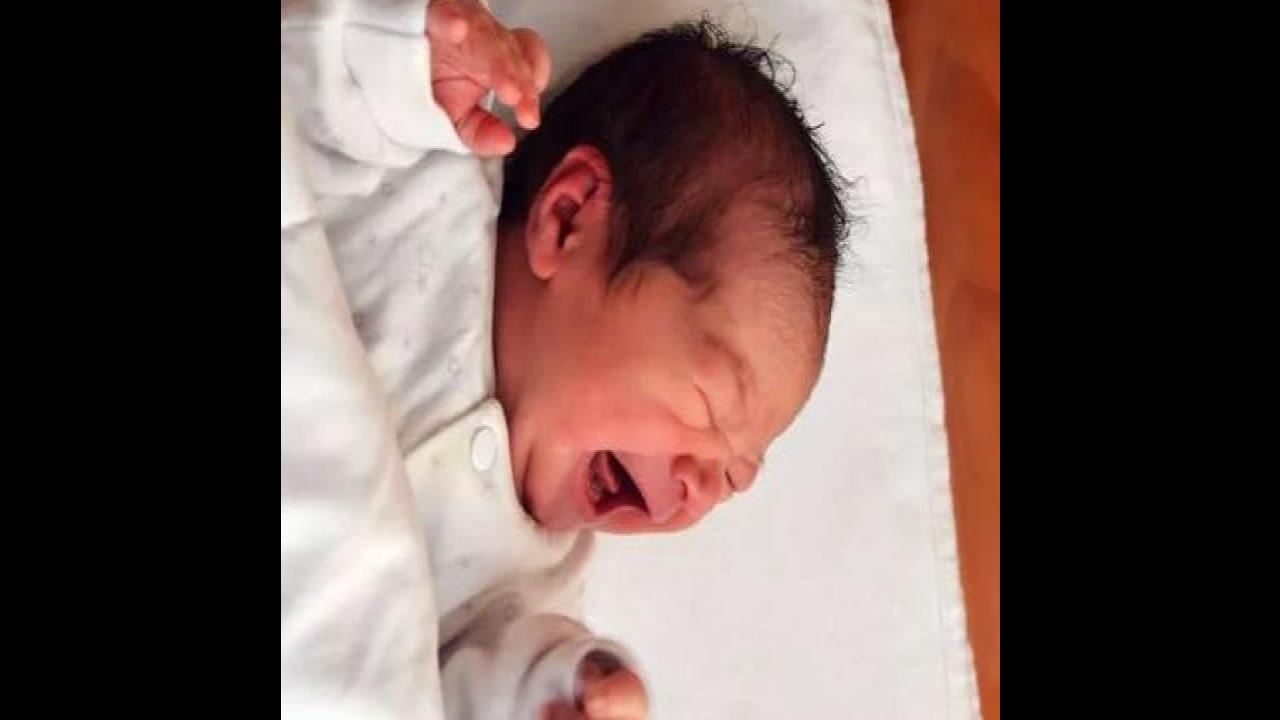hand: (426, 0, 550, 165), (532, 668, 648, 720)
